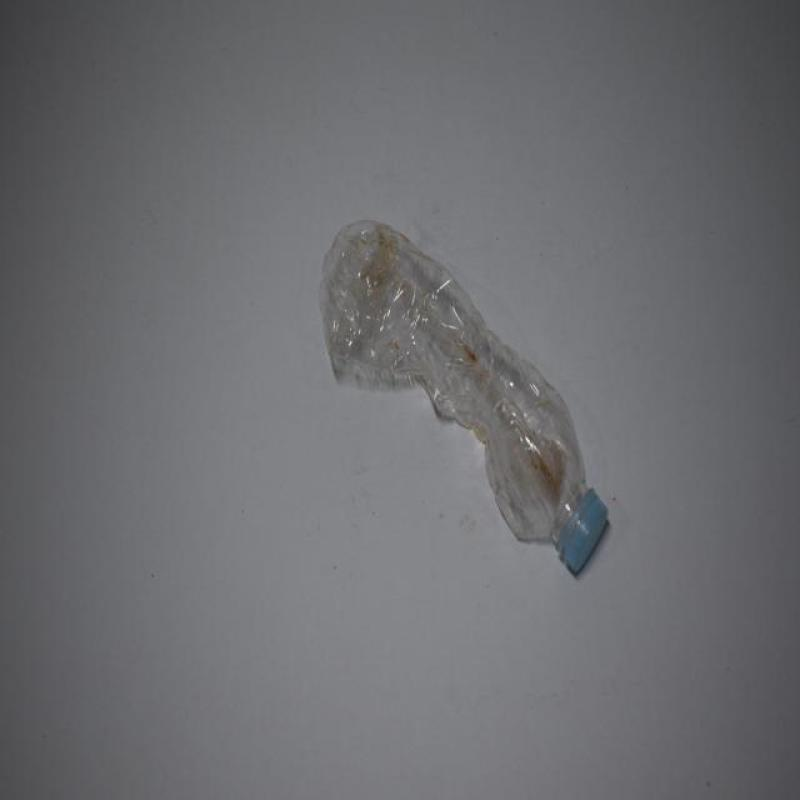botella: (320, 216, 610, 576)
